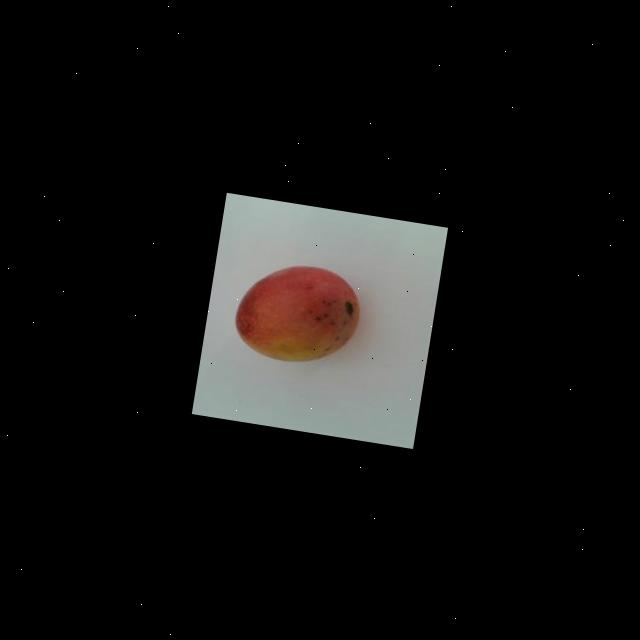Mango: (229, 256, 366, 372)
